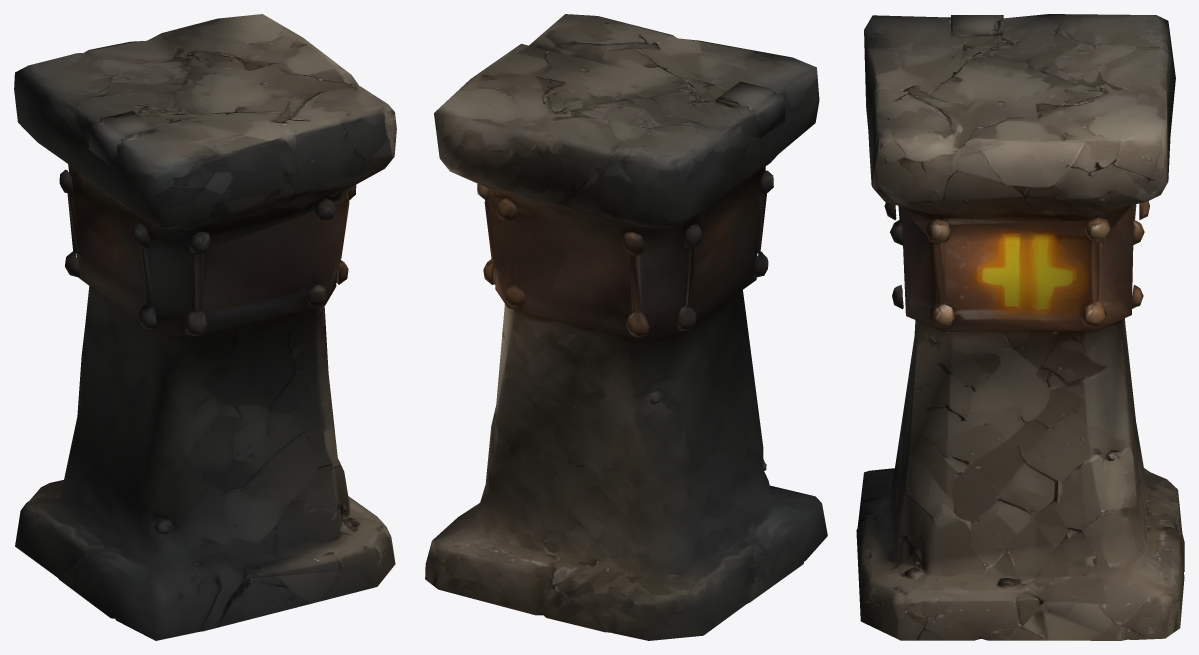
The model's file is ember_pillar.glb.
3 views of the same model, side by side, from view 1: azimuth 30°, elevation 25°; view 2: azimuth 150°, elevation 25°; view 3: azimuth 270°, elevation 25° (orthographic). The views are drawn at different scales.
Visible parts, largest first — view 1: tripo_node_adf68bd7-bc73-4944-8326-9d0063826fcc; view 2: tripo_node_adf68bd7-bc73-4944-8326-9d0063826fcc; view 3: tripo_node_adf68bd7-bc73-4944-8326-9d0063826fcc.
Part boxes in pixels (box(x1,y1,x2,y2)): tripo_node_adf68bd7-bc73-4944-8326-9d0063826fcc: box(14, 14, 396, 640); tripo_node_adf68bd7-bc73-4944-8326-9d0063826fcc: box(425, 14, 827, 640); tripo_node_adf68bd7-bc73-4944-8326-9d0063826fcc: box(856, 14, 1184, 640).
Bounding box in the file's own units: 0.5996 × 0.998 × 0.5957.
1 material, 1 textured.
